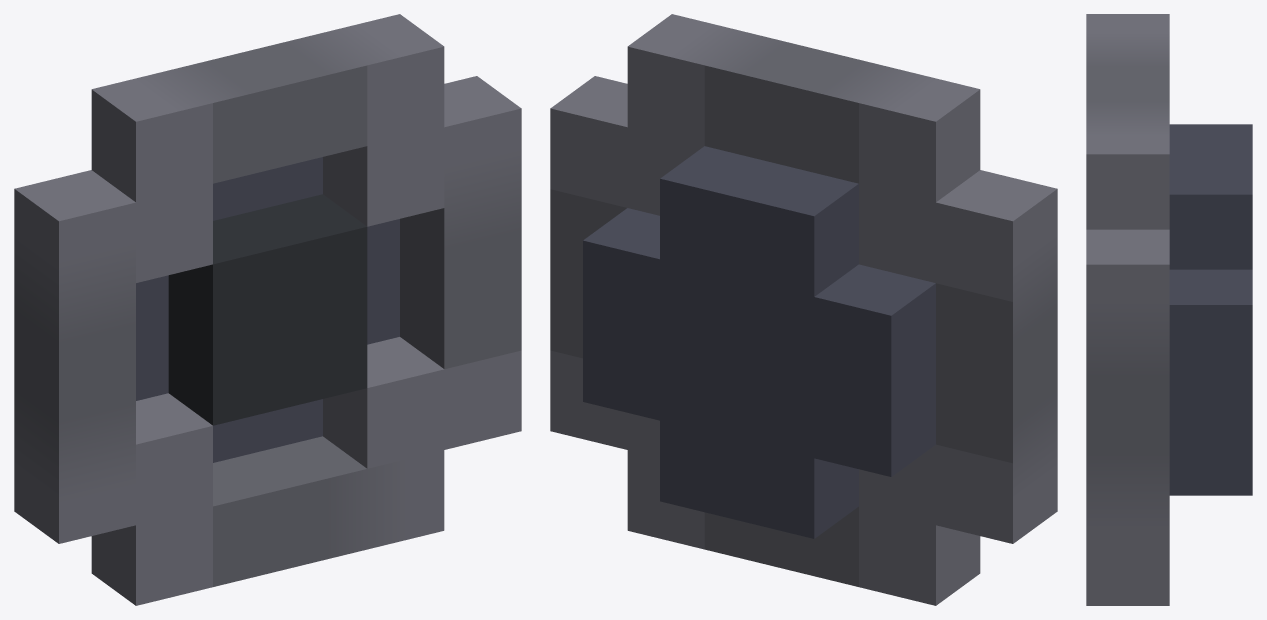
Rendered from SateliteDish-1.fbx.
3 renders of one model, left to right at view 1: azimuth 30°, elevation 25°; view 2: azimuth 150°, elevation 25°; view 3: azimuth 270°, elevation 25°, orthographic. The views are drawn at different scales.
Parts seen in each view (by area): view 1: SateliteDish_1; view 2: SateliteDish_1; view 3: SateliteDish_1.
Boxes of the visible parts, box(x1,y1,x2,y2) form: SateliteDish_1: box(14, 14, 521, 605); SateliteDish_1: box(550, 14, 1057, 605); SateliteDish_1: box(1086, 14, 1252, 605).
Bounding box in the file's own units: 60 × 60 × 20.
1 material, 1 textured.
